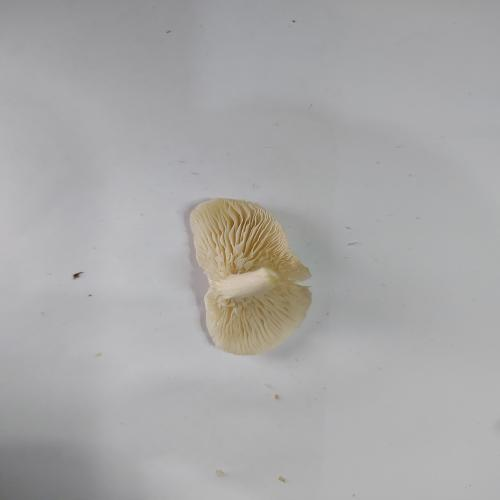Oyster Mushroom: (188, 197, 313, 356)
